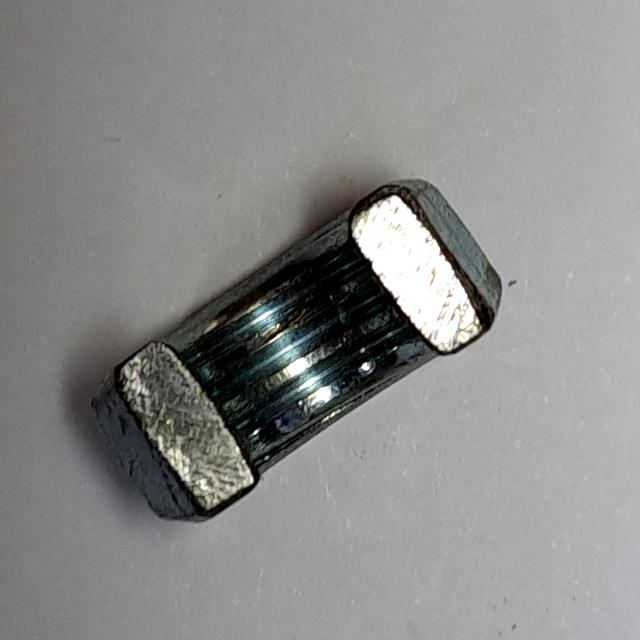Side-Fracture: (79, 169, 510, 535)
